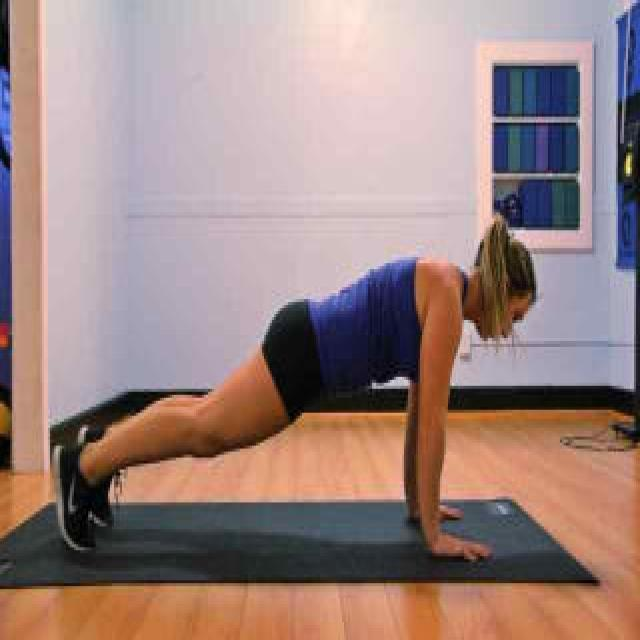yoga-pose plank: (51, 231, 539, 567)
